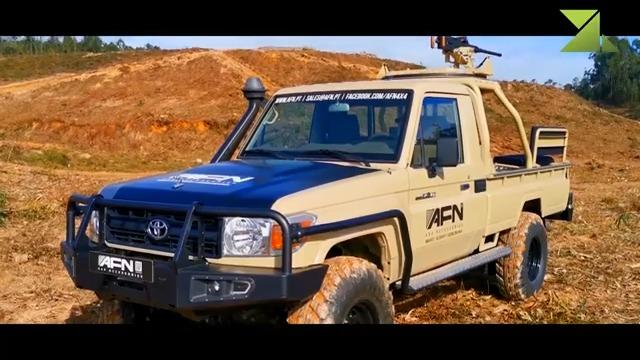MIL_HMMWV: (61, 81, 572, 325)
